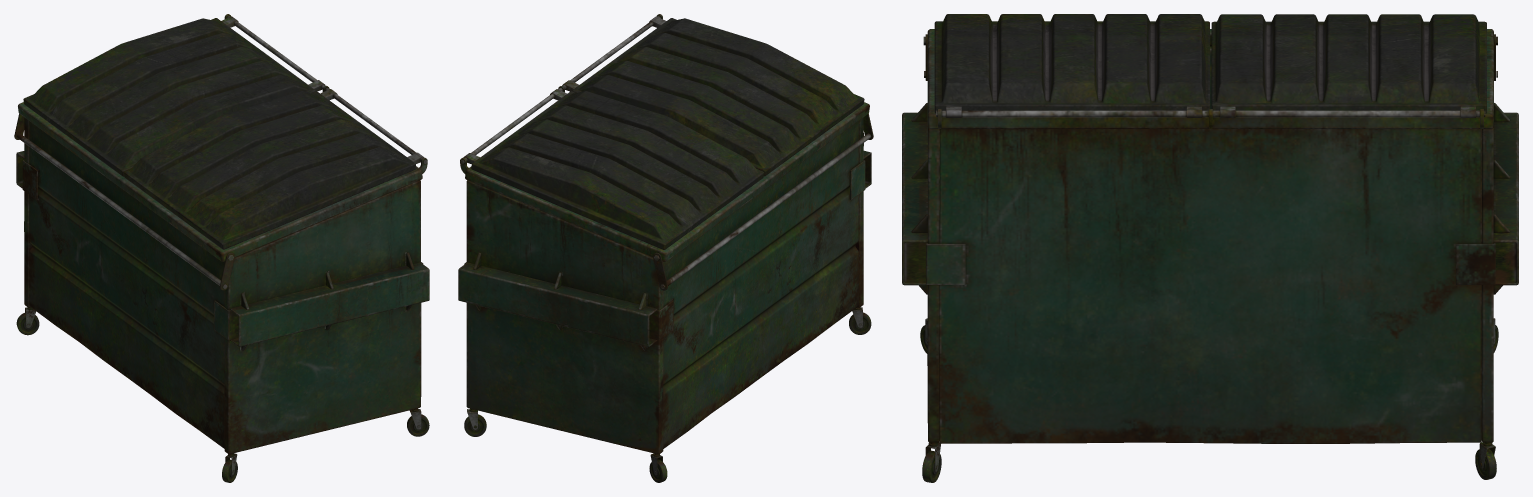
File: SM_PAD_Dumpster_Overgrown_c1_LOD0.fbx
3 renders of one model, left to right at view 1: azimuth 30°, elevation 25°; view 2: azimuth 150°, elevation 25°; view 3: azimuth 270°, elevation 25°, orthographic. The views are drawn at different scales.
Visible parts, largest first — view 1: SM_PAD_Dumpster_Overgrown_c1_LOD0_LOD0; view 2: SM_PAD_Dumpster_Overgrown_c1_LOD0_LOD0; view 3: SM_PAD_Dumpster_Overgrown_c1_LOD0_LOD0.
Boxes of the visible parts, bbox=[...] form: SM_PAD_Dumpster_Overgrown_c1_LOD0_LOD0: bbox=[14, 14, 429, 482]; SM_PAD_Dumpster_Overgrown_c1_LOD0_LOD0: bbox=[458, 14, 873, 482]; SM_PAD_Dumpster_Overgrown_c1_LOD0_LOD0: bbox=[902, 14, 1518, 482].
Bounding box in the file's own units: 127 × 232 × 160.
